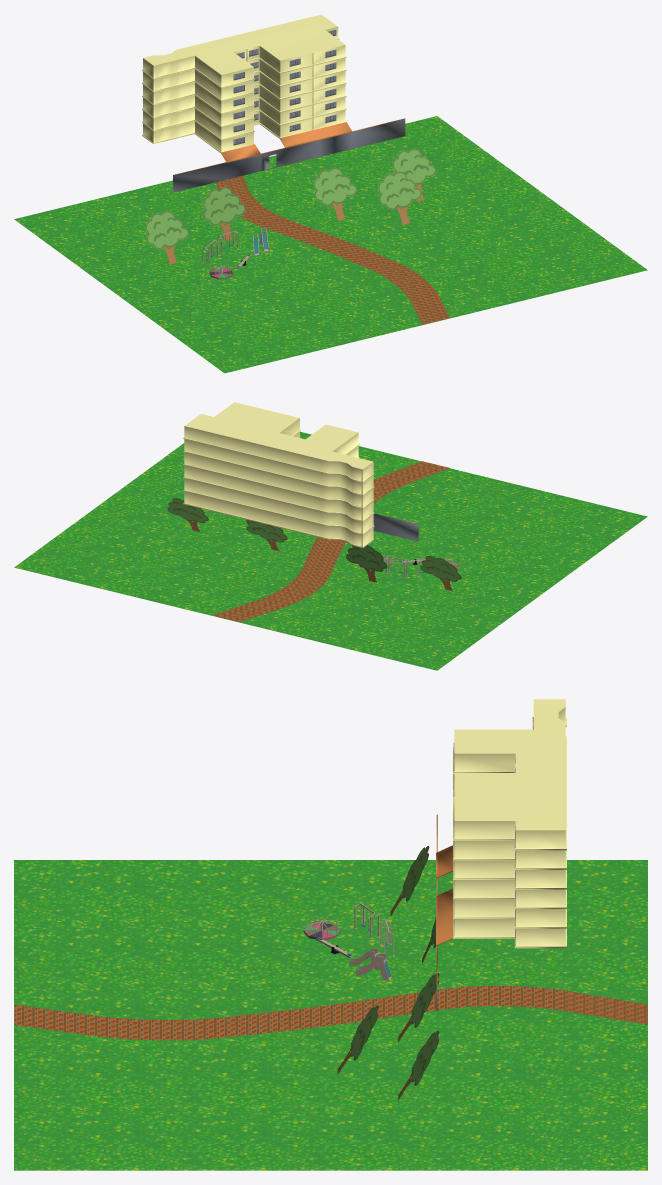
File: MP_Background_Assets.fbx
The picture shows the model from 3 angles, top to bottom: view 1: azimuth 30°, elevation 25°; view 2: azimuth 150°, elevation 25°; view 3: azimuth 270°, elevation 25°; orthographic projection. The views are drawn at different scales.
Parts seen in each view (by area): view 1: ground, Background_Flats, ground.001, Tree.004, Tree, Tree.002, Tree.003, Tree.001; view 2: ground, Background_Flats, ground.001, Tree.003, Tree.004, Tree.001, Tree; view 3: ground, Background_Flats, ground.001, Tree.001, Tree, Tree.002, Tree.004.
Boxes of the visible parts, box(x1,y1,x2,y2) form: ground: box(14, 116, 647, 373); Background_Flats: box(142, 14, 405, 192); ground.001: box(215, 175, 449, 324); Tree.004: box(145, 210, 188, 264); Tree: box(313, 167, 357, 220); Tree.002: box(378, 171, 421, 224); Tree.003: box(203, 186, 245, 241); Tree.001: box(392, 148, 436, 201); ground: box(14, 431, 647, 670); Background_Flats: box(183, 402, 418, 547); ground.001: box(212, 461, 449, 621); Tree.003: box(346, 545, 387, 582); Tree.004: box(420, 555, 461, 590); Tree.001: box(167, 498, 208, 531); Tree: box(246, 521, 287, 550); ground: box(14, 860, 647, 1170); Background_Flats: box(436, 699, 566, 1011); ground.001: box(14, 985, 647, 1040); Tree.001: box(398, 1030, 439, 1099); Tree: box(398, 973, 439, 1041); Tree.002: box(337, 1005, 378, 1074); Tree.004: box(390, 846, 429, 916).
Size of the model in its own units: 7305 by 2617 by 6299.
16 materials, 3 textured.
